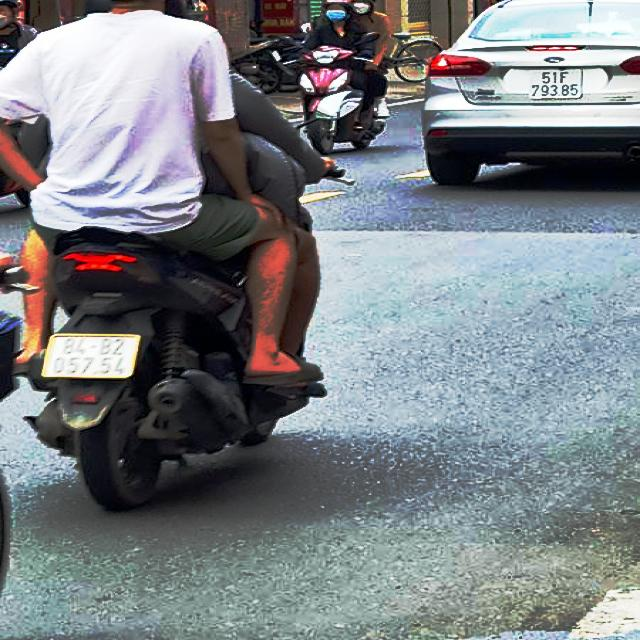license_plate: (43, 334, 139, 378), (527, 71, 583, 99)
